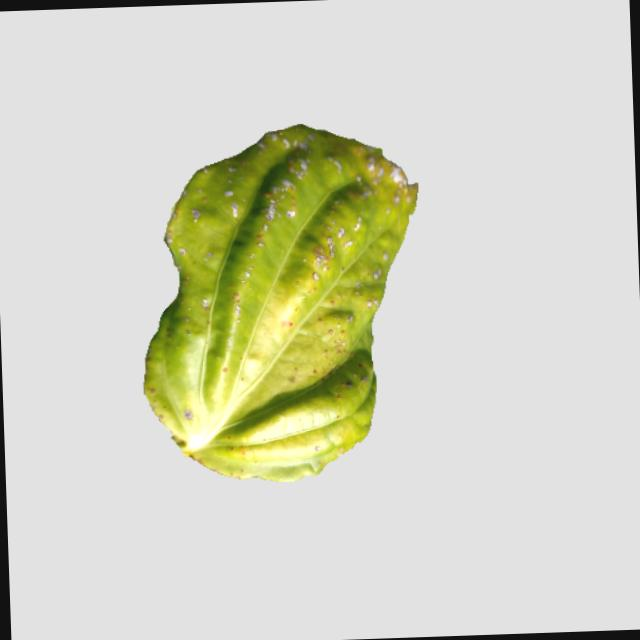yellow-mottle-virus: (126, 126, 426, 492)
